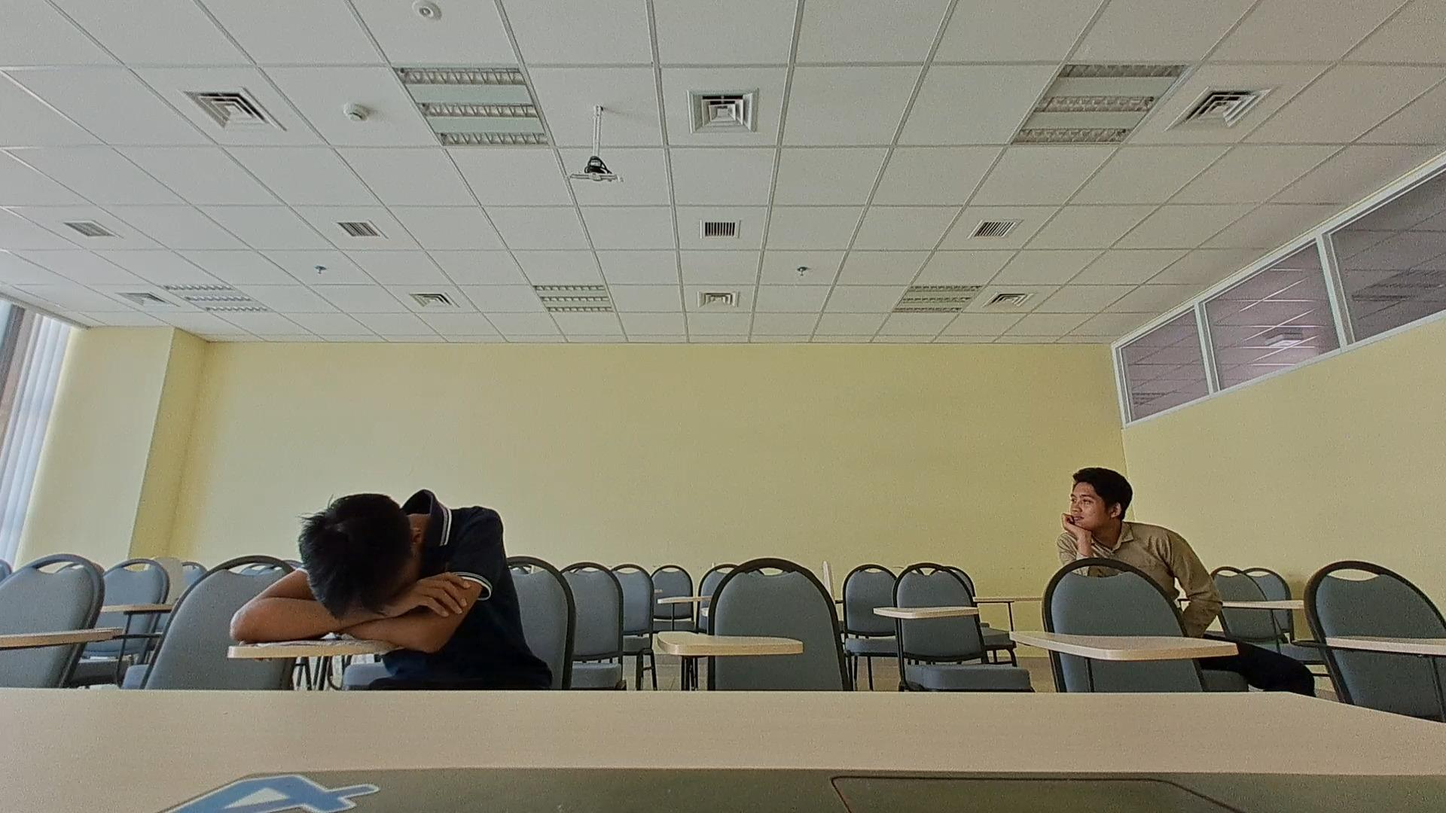sleep: (224, 478, 548, 691)
study: (1041, 461, 1220, 642)
